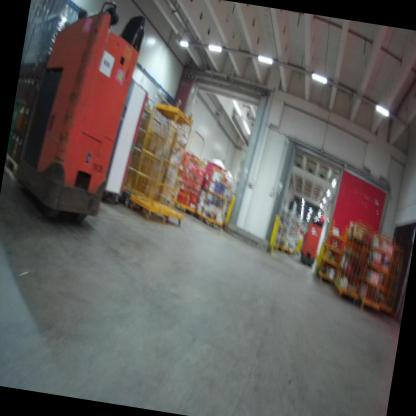pallet: (3, 148, 23, 181)
pallet_truck: (6, 0, 151, 235), (294, 211, 326, 270)
